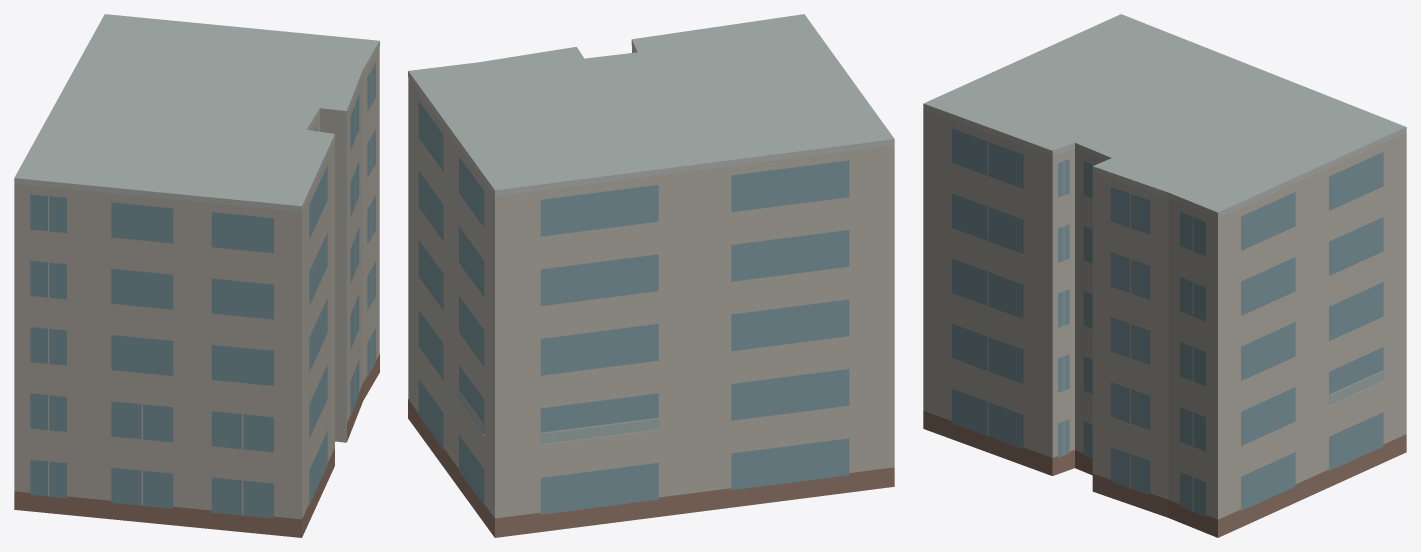
The model's file is survey-upis-32676557.glb.
3 views of the same model, side by side, from view 1: azimuth 30°, elevation 25°; view 2: azimuth 150°, elevation 25°; view 3: azimuth 270°, elevation 25° (orthographic). The views are drawn at different scales.
Visible parts, largest first — view 1: survey-upis-32676557.tmp; view 2: survey-upis-32676557.tmp; view 3: survey-upis-32676557.tmp.
Boxes of the visible parts, x1=… form: survey-upis-32676557.tmp: x1=14, y1=14, x2=379, y2=537; survey-upis-32676557.tmp: x1=408, y1=14, x2=894, y2=537; survey-upis-32676557.tmp: x1=923, y1=14, x2=1406, y2=537.
Bounding box in the file's own units: 18.27 × 13.95 × 18.78.
